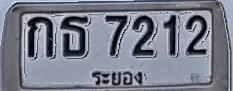1: (163, 14, 177, 56)
2: (132, 15, 155, 56), (186, 14, 206, 54)
7: (105, 14, 127, 56)
A01: (27, 16, 54, 58)
A24: (60, 15, 89, 57)
RYG: (90, 67, 148, 89)
